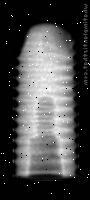Anthogyr: (13, 20, 78, 180)
